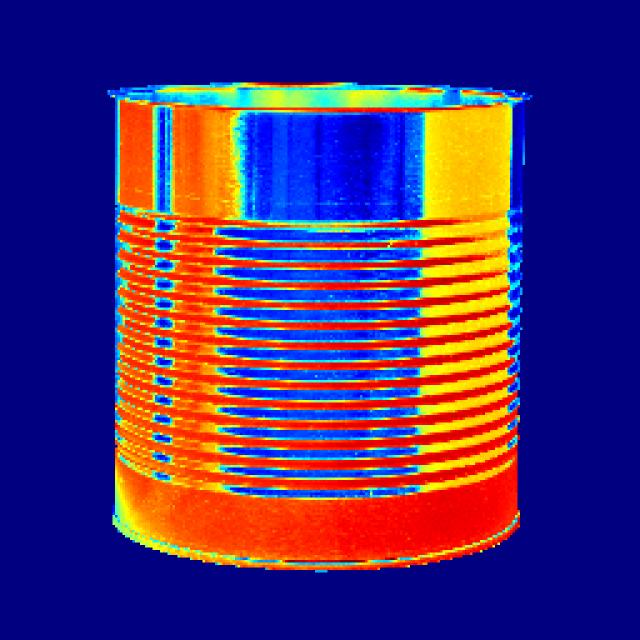Aluminium Food Cans: (109, 55, 536, 596)
